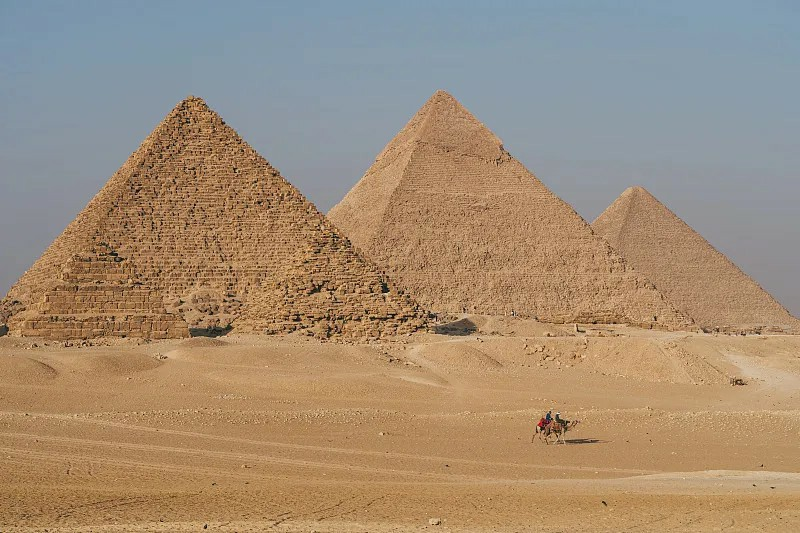Pyramid: (2, 95, 442, 333), (325, 91, 707, 336), (590, 186, 798, 330), (239, 228, 428, 336), (14, 244, 194, 342)
